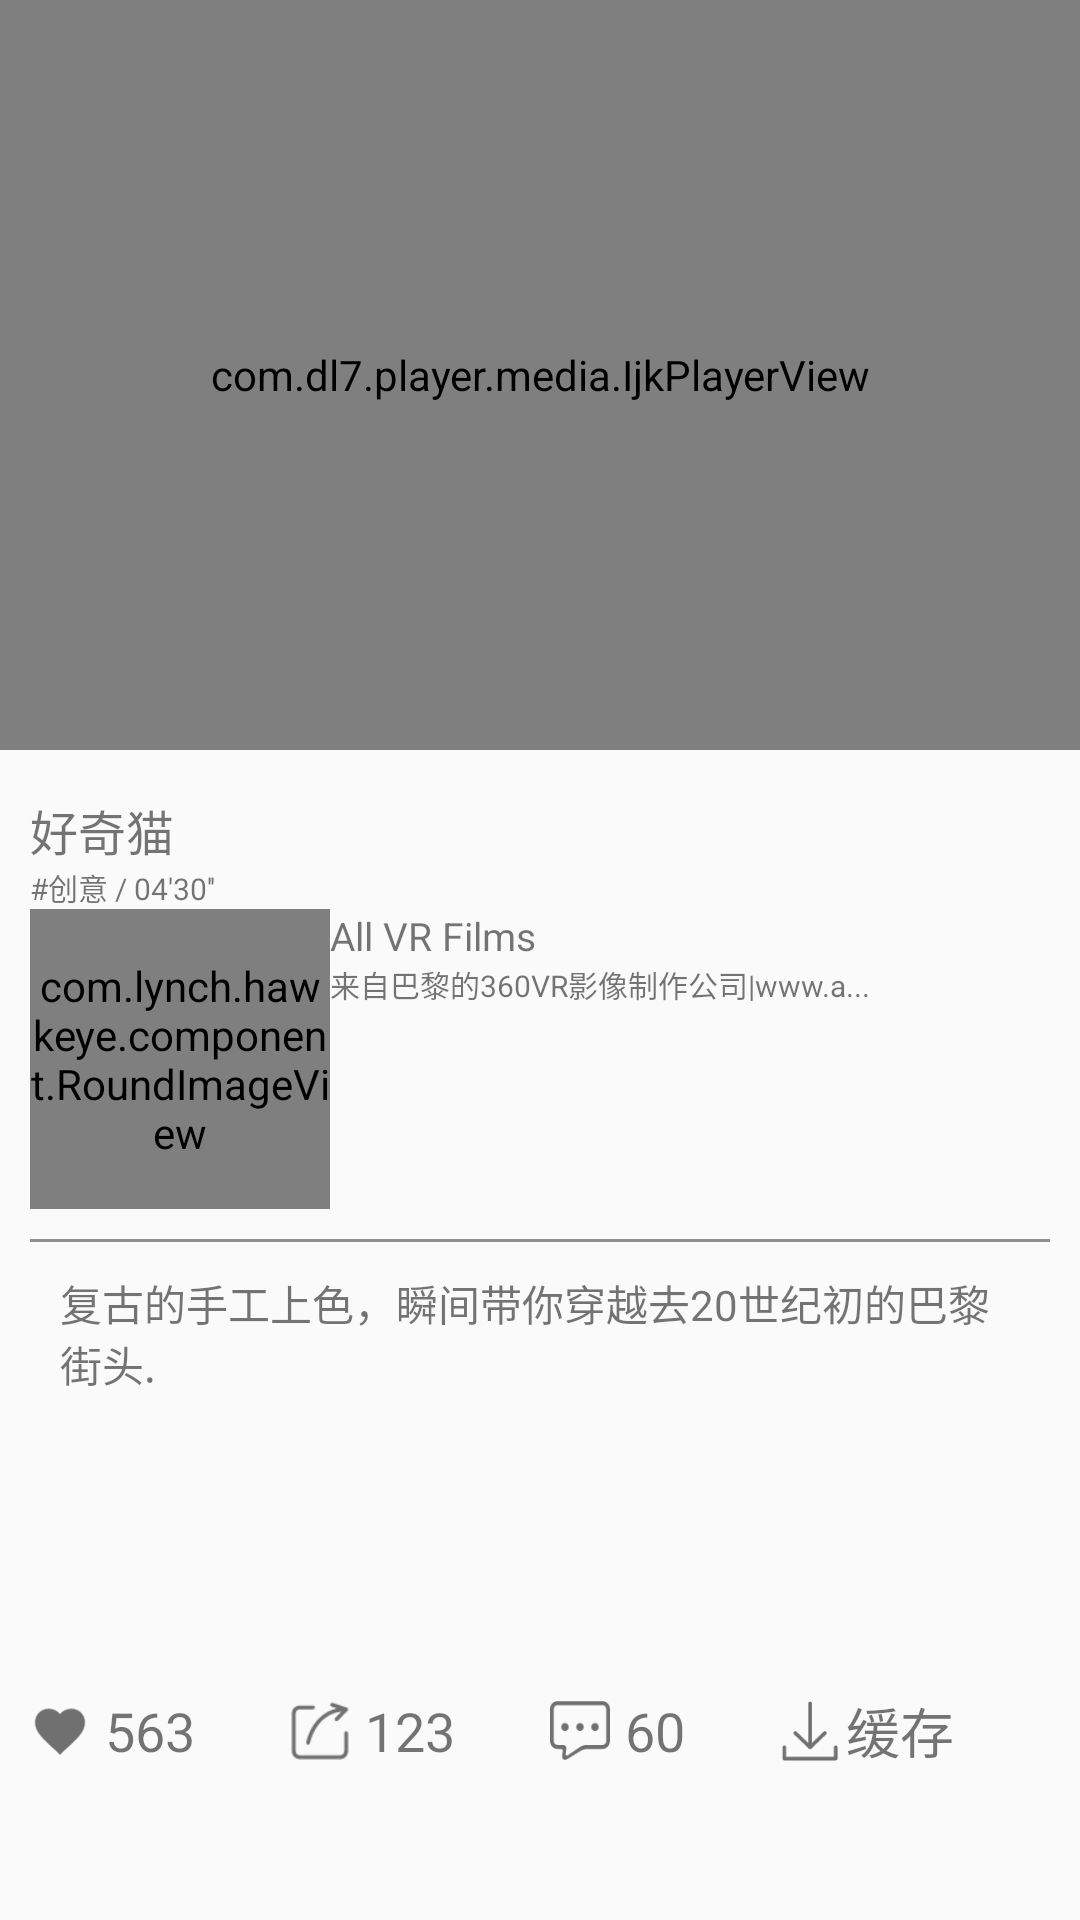

Screen size 1080×1920. Icon name, then its center in pixels as point (x, y):
comment: point (580, 1730)
download: point (810, 1731)
share: point (320, 1731)
uncollect: point (60, 1731)
